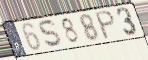3: (115, 6, 139, 37)
6: (22, 21, 44, 53)
8: (79, 13, 101, 43), (61, 17, 81, 45)
P: (94, 9, 117, 42)
S: (38, 19, 65, 49)
